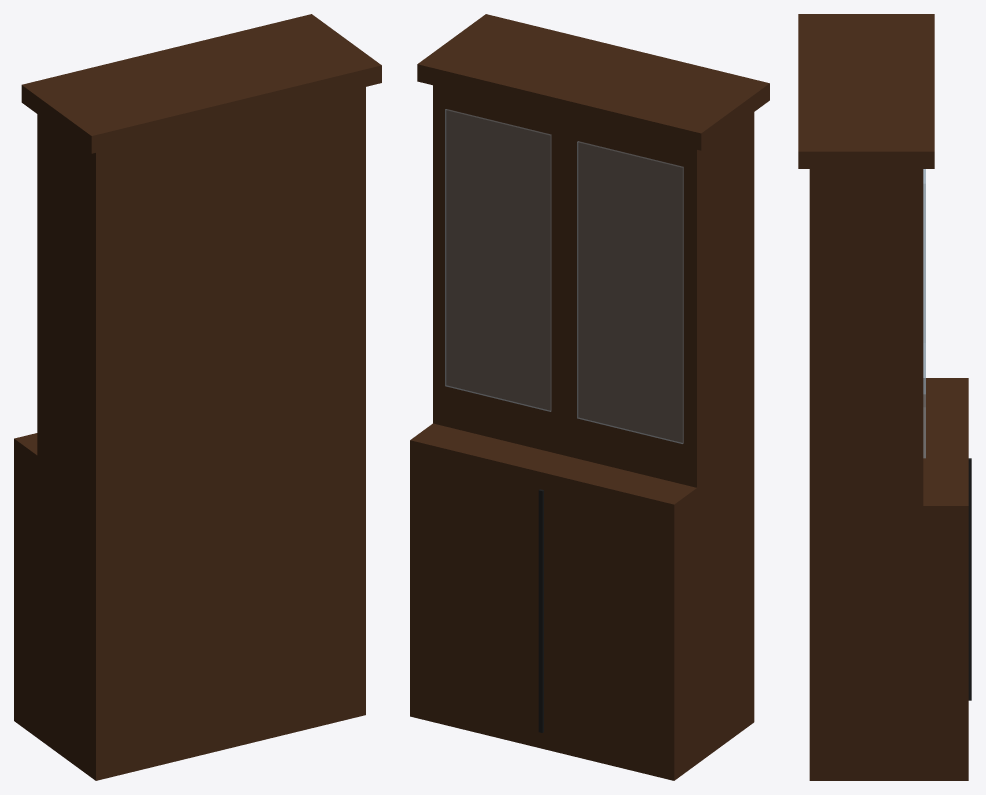
The model's file is hutch.obj.
3 renders of one model, left to right at view 1: azimuth 30°, elevation 25°; view 2: azimuth 150°, elevation 25°; view 3: azimuth 270°, elevation 25°, orthographic. The views are drawn at different scales.
Visible parts, largest first — view 1: hutch_1, hutch_0, hutch_2; view 2: hutch_1, hutch_0, hutch_4, hutch_3, hutch_2, hutch_5; view 3: hutch_0, hutch_1, hutch_2, hutch_5, hutch_4, hutch_3.
Part boxes in pixels (<box>): hutch_1: <box>37,87,365,498</box>; hutch_0: <box>14,432,365,780</box>; hutch_2: <box>21,14,381,153</box>; hutch_1: <box>433,85,754,487</box>; hutch_0: <box>410,423,754,780</box>; hutch_4: <box>445,109,551,411</box>; hutch_3: <box>577,141,683,443</box>; hutch_2: <box>417,14,769,150</box>; hutch_5: <box>538,489,543,732</box>; hutch_0: <box>809,378,968,780</box>; hutch_1: <box>809,169,923,505</box>; hutch_2: <box>798,14,934,168</box>; hutch_5: <box>968,458,971,700</box>; hutch_4: <box>923,169,925,458</box>; hutch_3: <box>923,169,925,393</box>.
Bounding box in the file's own units: 0.86 × 1.85 × 0.458.
